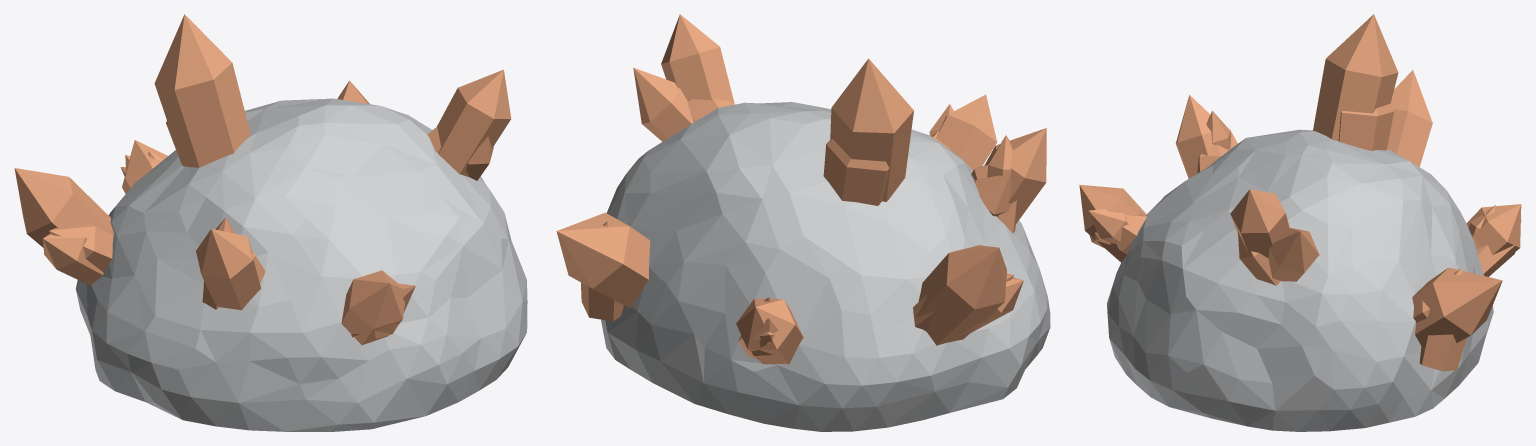
Rendered from CopperOre1.fbx.
3 views of the same model, side by side, from view 1: azimuth 30°, elevation 25°; view 2: azimuth 150°, elevation 25°; view 3: azimuth 270°, elevation 25° (orthographic). The views are drawn at different scales.
Parts seen in each view (by area): view 1: CopperOre1; view 2: CopperOre1; view 3: CopperOre1.
Part boxes in pixels (bbox=[...]): CopperOre1: bbox=[14, 14, 527, 431]; CopperOre1: bbox=[556, 14, 1050, 431]; CopperOre1: bbox=[1079, 14, 1521, 431].
Bounding box in the file's own units: 2.25 × 1.62 × 2.19.
